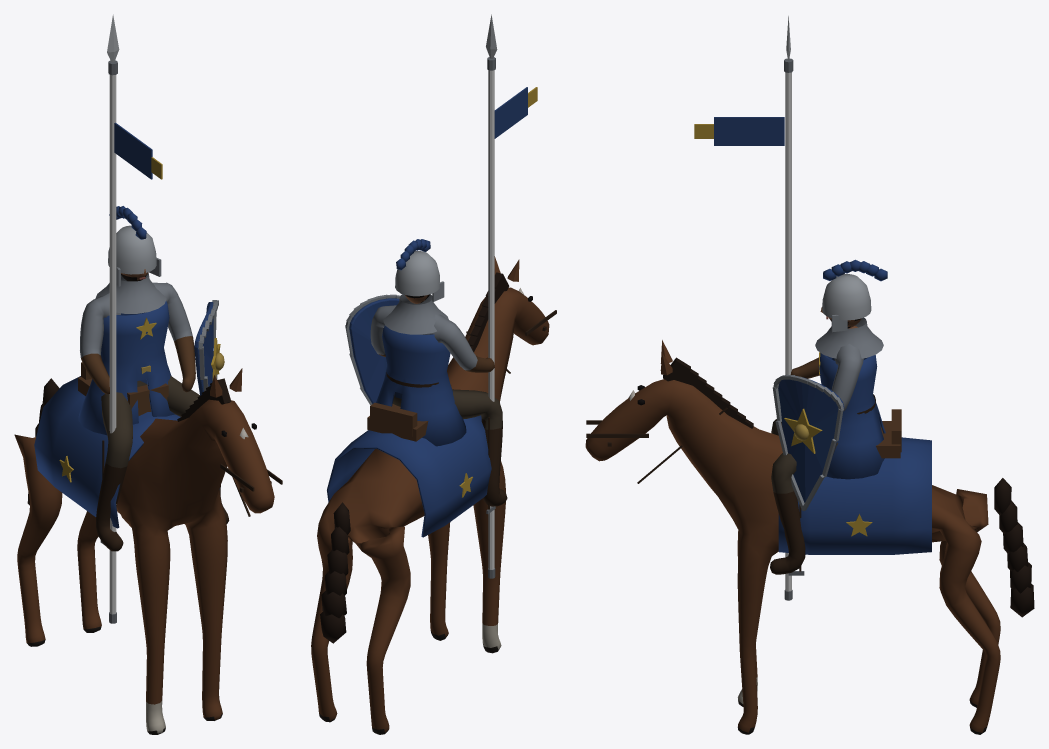
The model's file is soldier_reiter.glb.
3 renders of one model, left to right at view 1: azimuth 30°, elevation 25°; view 2: azimuth 150°, elevation 25°; view 3: azimuth 270°, elevation 25°, orthographic. The views are drawn at different scales.
Visible parts, largest first — view 1: soldier_reiter; view 2: soldier_reiter; view 3: soldier_reiter.
Boxes of the visible parts, <box> form: soldier_reiter: <box>14,14,282,734</box>; soldier_reiter: <box>311,14,556,734</box>; soldier_reiter: <box>585,16,1034,734</box>.
Size of the model in its own units: 0.8084 by 3.83 by 2.28.
